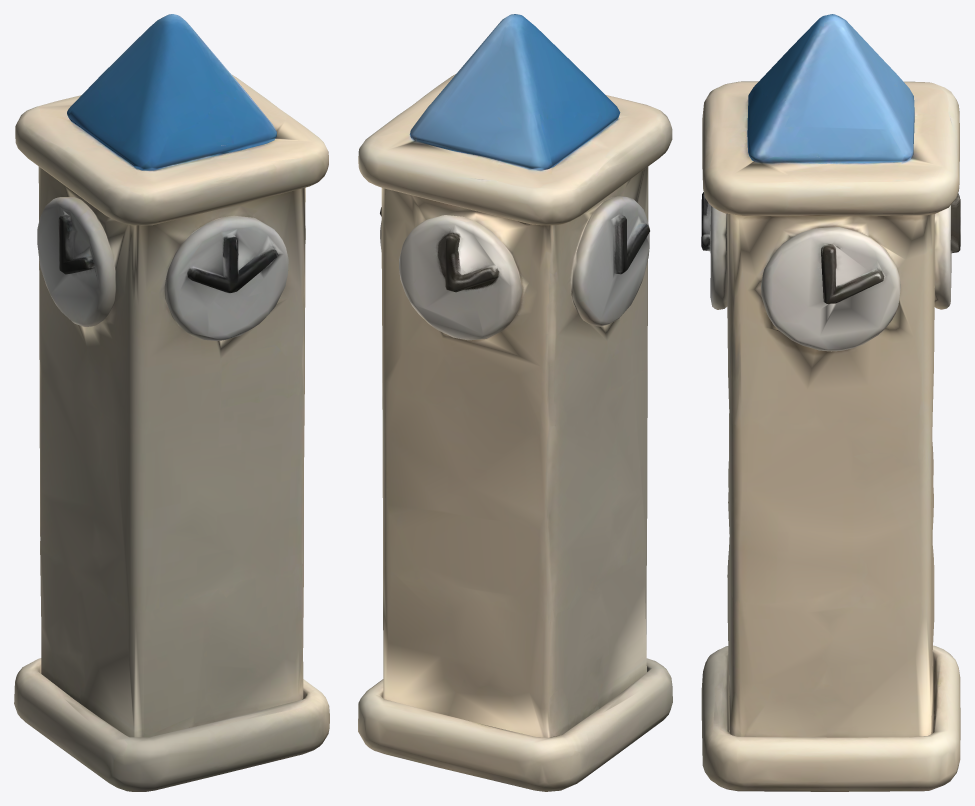
The model's file is clocktower.glb.
The picture shows the model from 3 angles, left to right: view 1: azimuth 30°, elevation 25°; view 2: azimuth 150°, elevation 25°; view 3: azimuth 270°, elevation 25°; orthographic projection.
Visible parts, largest first — view 1: tripo_node_59bb7aa3-0808-4602-a131-1b234e676fc2; view 2: tripo_node_59bb7aa3-0808-4602-a131-1b234e676fc2; view 3: tripo_node_59bb7aa3-0808-4602-a131-1b234e676fc2.
Boxes of the visible parts, left/top/right/bottom form: tripo_node_59bb7aa3-0808-4602-a131-1b234e676fc2: left=14, top=14, right=329, bottom=791; tripo_node_59bb7aa3-0808-4602-a131-1b234e676fc2: left=358, top=14, right=672, bottom=791; tripo_node_59bb7aa3-0808-4602-a131-1b234e676fc2: left=701, top=14, right=960, bottom=791.
Size of the model in its own units: 0.3243 by 1 by 0.3219.
1 material, 1 textured.
